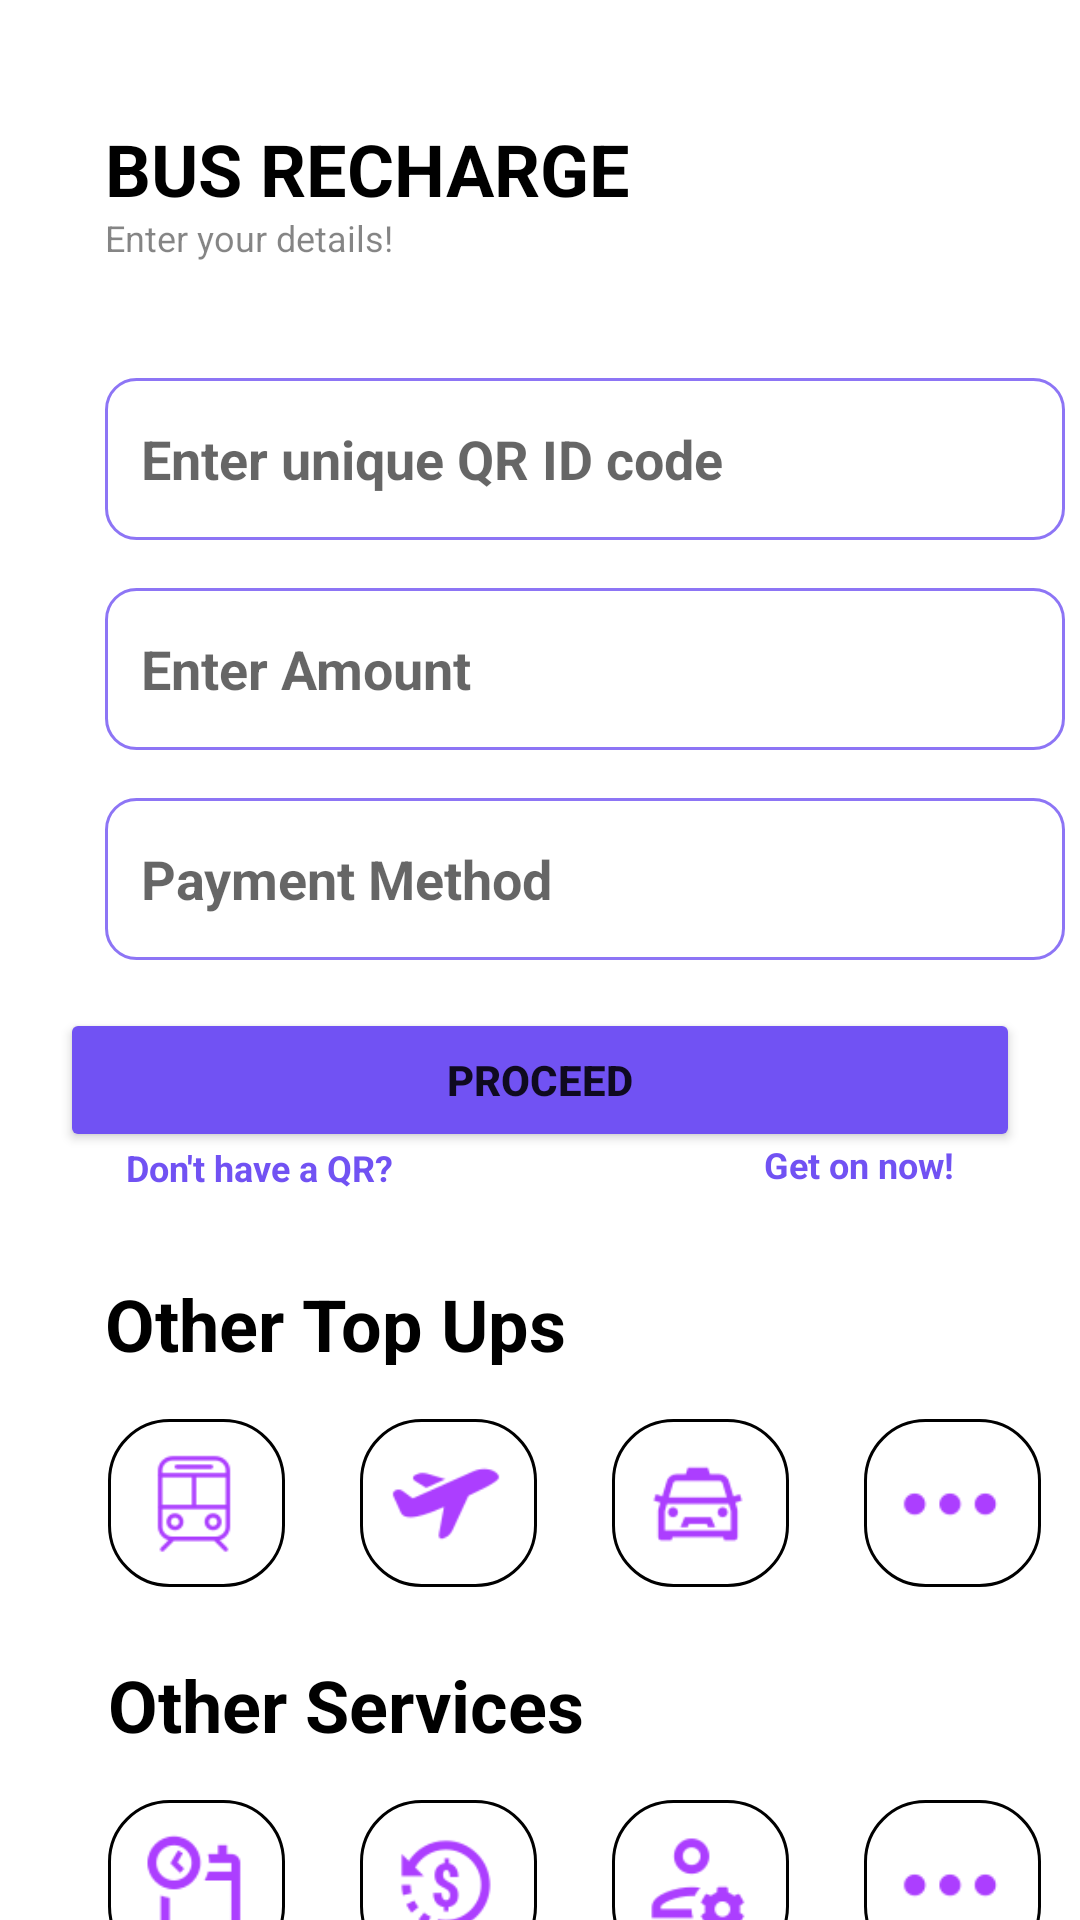

Screen size 1080px x 1920px. Icon name, then its center in pixels as (x,y):
cab: (700,1503)
Flight: (448,1503)
metro: (196,1503)
